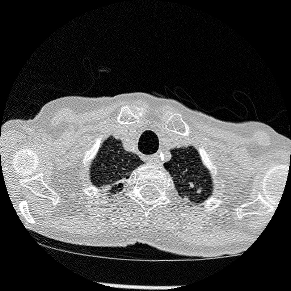nodule: (189, 183, 193, 187)
